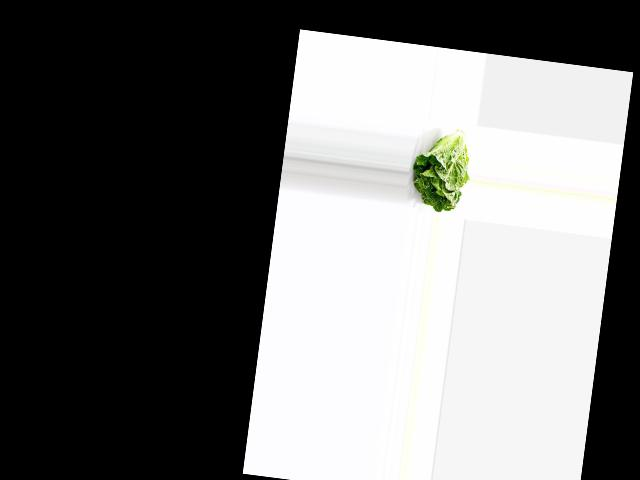lettuce: (407, 126, 475, 214)
